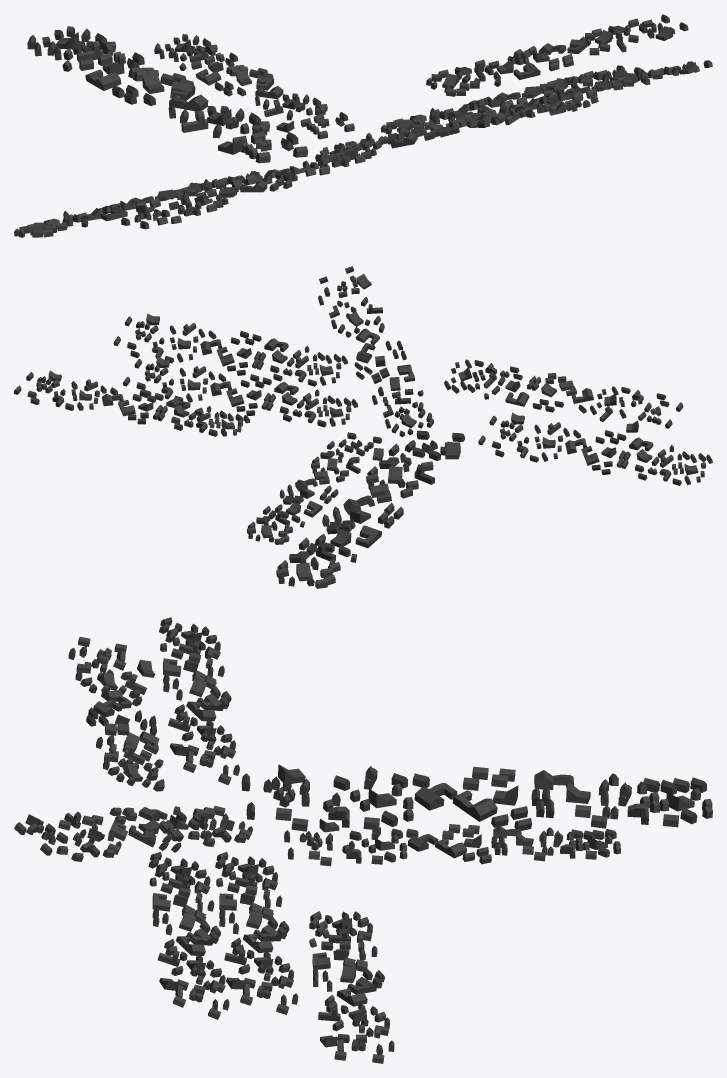
File: backgroundTown.obj
3 views of the same model, one above another, from view 1: azimuth 30°, elevation 25°; view 2: azimuth 150°, elevation 25°; view 3: azimuth 270°, elevation 25° (orthographic). The views are drawn at different scales.
Parts seen in each view (by area): view 1: Cube.007; view 2: Cube.007; view 3: Cube.007.
Part boxes in pixels (bbox=[...]): Cube.007: bbox=[14, 14, 712, 237]; Cube.007: bbox=[14, 266, 712, 588]; Cube.007: bbox=[14, 617, 712, 1063].
Size of the model in its own units: 2602 by 345 by 1869.
